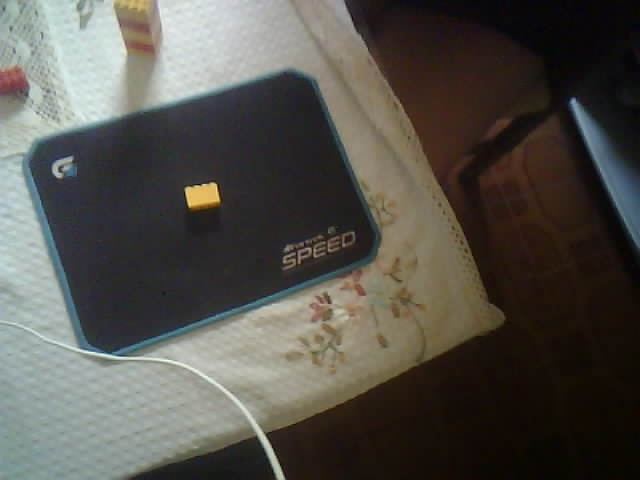lego: (112, 1, 164, 57), (183, 181, 222, 211), (1, 66, 29, 95)
